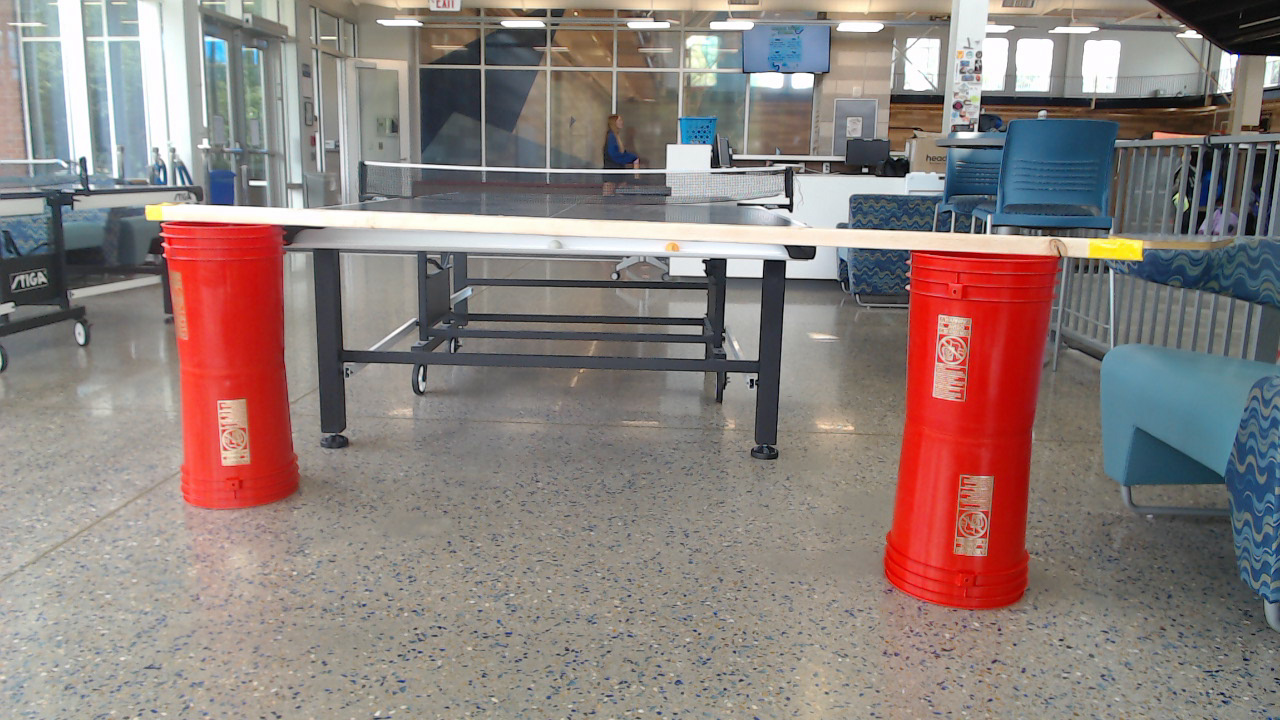blue_bucket: (162, 204, 1070, 623)
